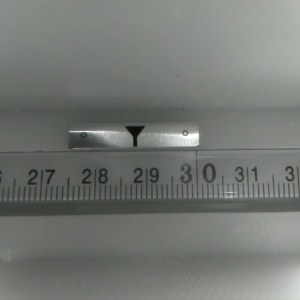0: (202, 163, 216, 183)
1: (246, 167, 253, 182)
2: (26, 169, 37, 186), (81, 168, 91, 184), (132, 168, 142, 184)
3: (179, 164, 192, 183), (233, 166, 243, 182), (285, 166, 294, 183)
7: (44, 169, 55, 185)
8: (97, 168, 107, 184)
9: (149, 167, 159, 183)
finger: (124, 126, 144, 146)
